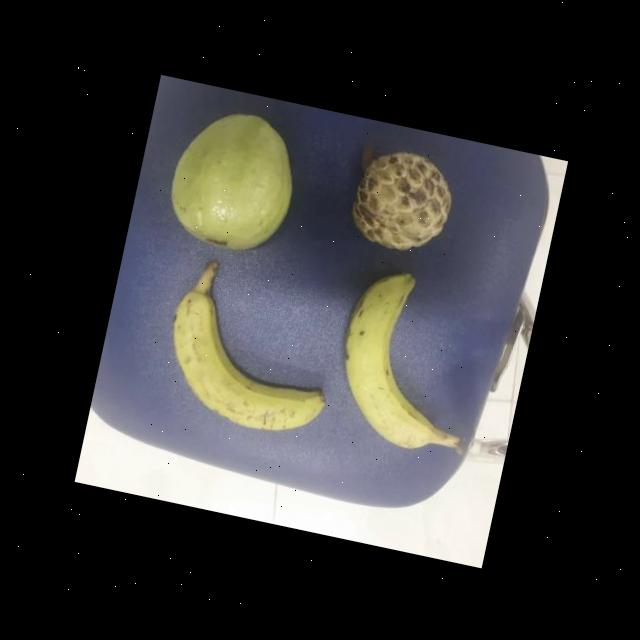Sakya fruit: (339, 140, 464, 264)
banana: (150, 278, 350, 446), (323, 258, 475, 458)
guava: (157, 99, 312, 265)
